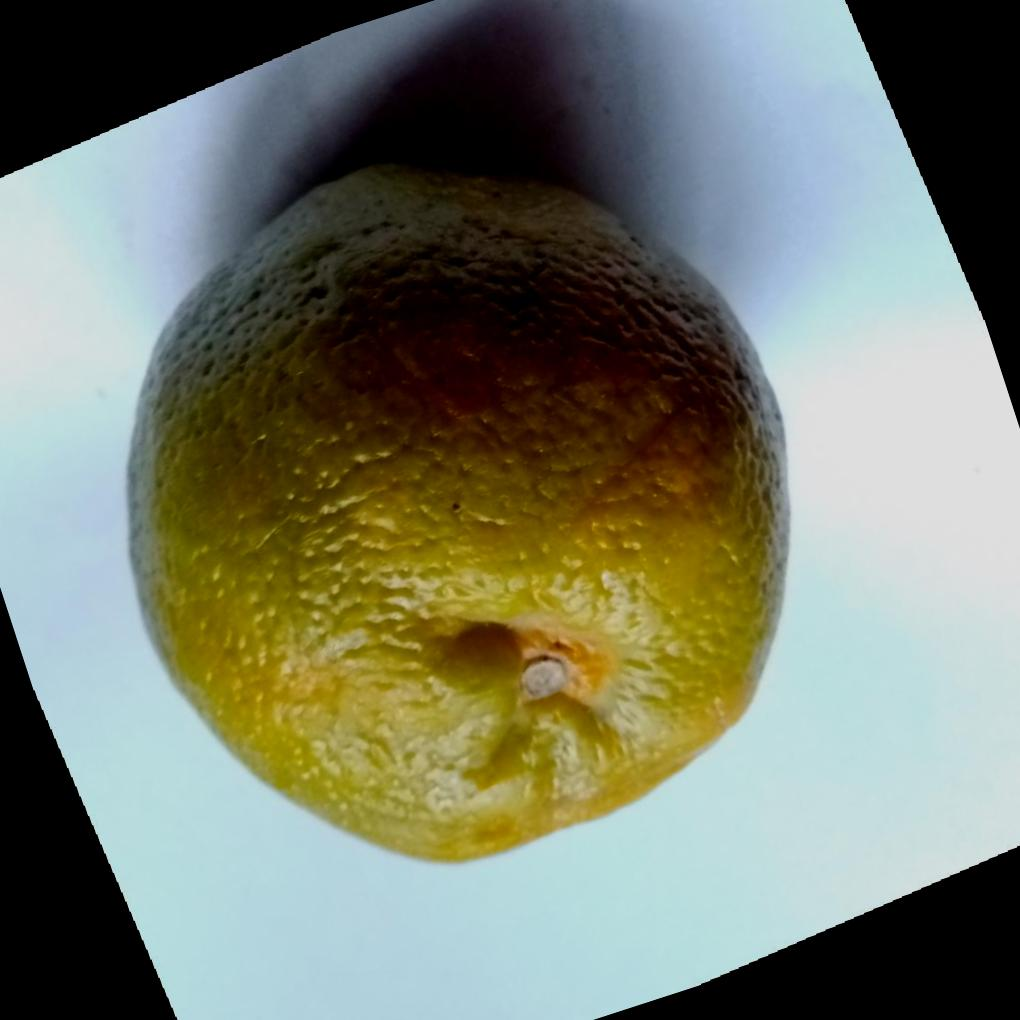FreshGuava: (122, 154, 791, 862)
